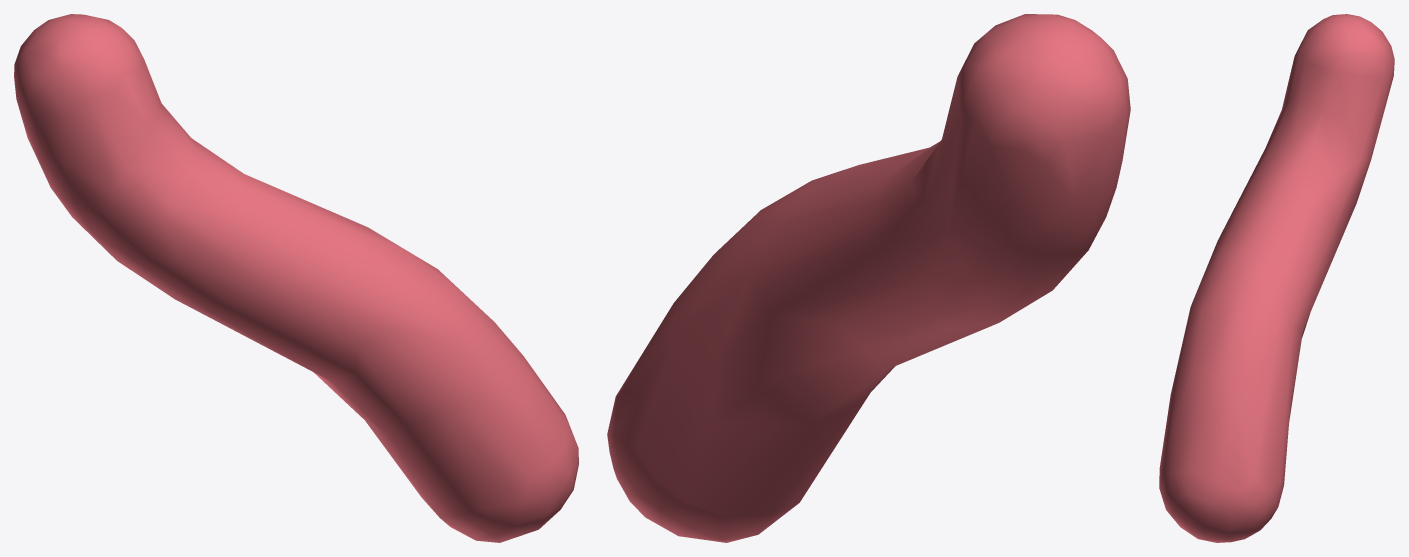
Rendered from fma69316_fj4715.glb.
The picture shows the model from 3 angles, left to right: view 1: azimuth 30°, elevation 25°; view 2: azimuth 150°, elevation 25°; view 3: azimuth 270°, elevation 25°; orthographic projection. The views are drawn at different scales.
Parts seen in each view (by area): view 1: FMA69316_FJ4715; view 2: FMA69316_FJ4715; view 3: FMA69316_FJ4715.
Boxes of the visible parts, x1,y1,x2,y2 form: FMA69316_FJ4715: (14, 14, 578, 542); FMA69316_FJ4715: (607, 14, 1130, 542); FMA69316_FJ4715: (1159, 14, 1394, 542).
Bounding box in the file's own units: 0.03 × 0.0332 × 0.0178.
